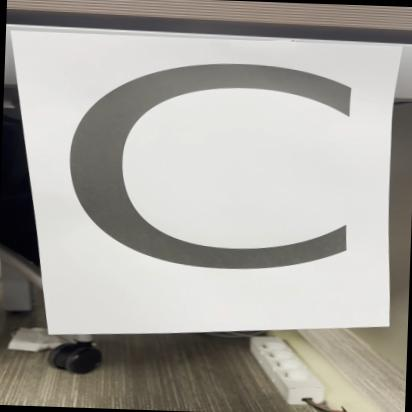seat: (0, 24, 402, 334)
